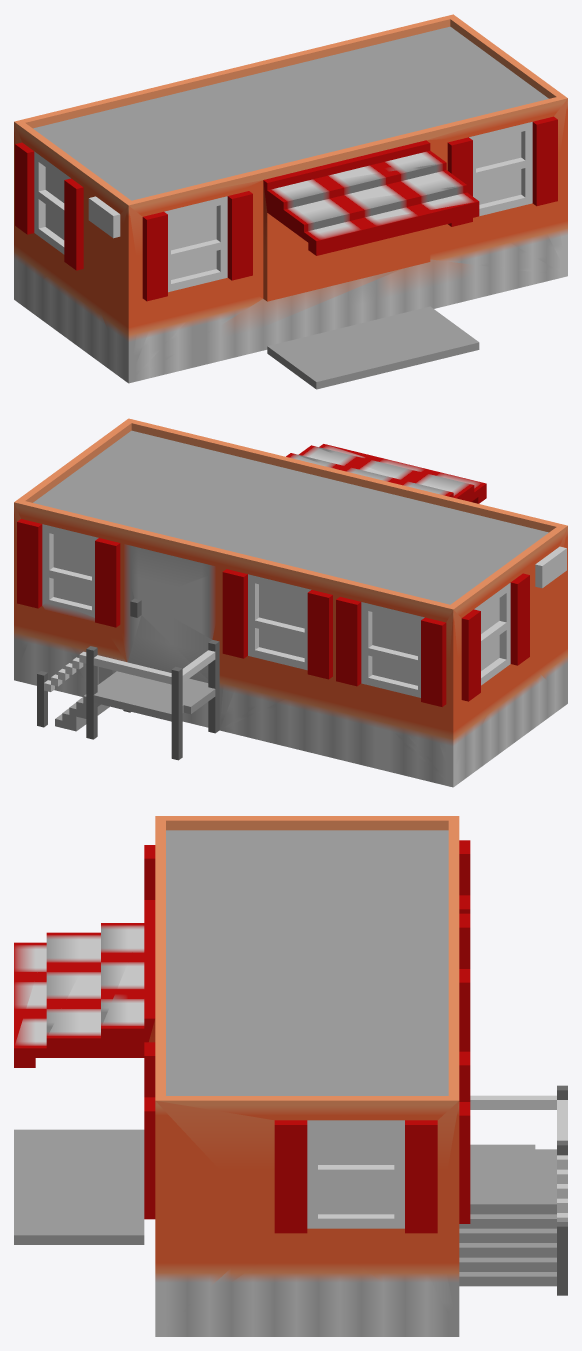
File: obj_house6b.fbx
3 views of the same model, one above another, from view 1: azimuth 30°, elevation 25°; view 2: azimuth 150°, elevation 25°; view 3: azimuth 270°, elevation 25° (orthographic). The views are drawn at different scales.
Visible parts, largest first — view 1: obj_house6b; view 2: obj_house6b; view 3: obj_house6b.
Boxes of the visible parts, x1,y1,x2,y2 form: obj_house6b: (14, 14, 567, 389); obj_house6b: (14, 418, 567, 787); obj_house6b: (14, 816, 567, 1336).
Size of the model in its own units: 6.4 by 5.1 by 2.4.
1 material, 1 textured.
